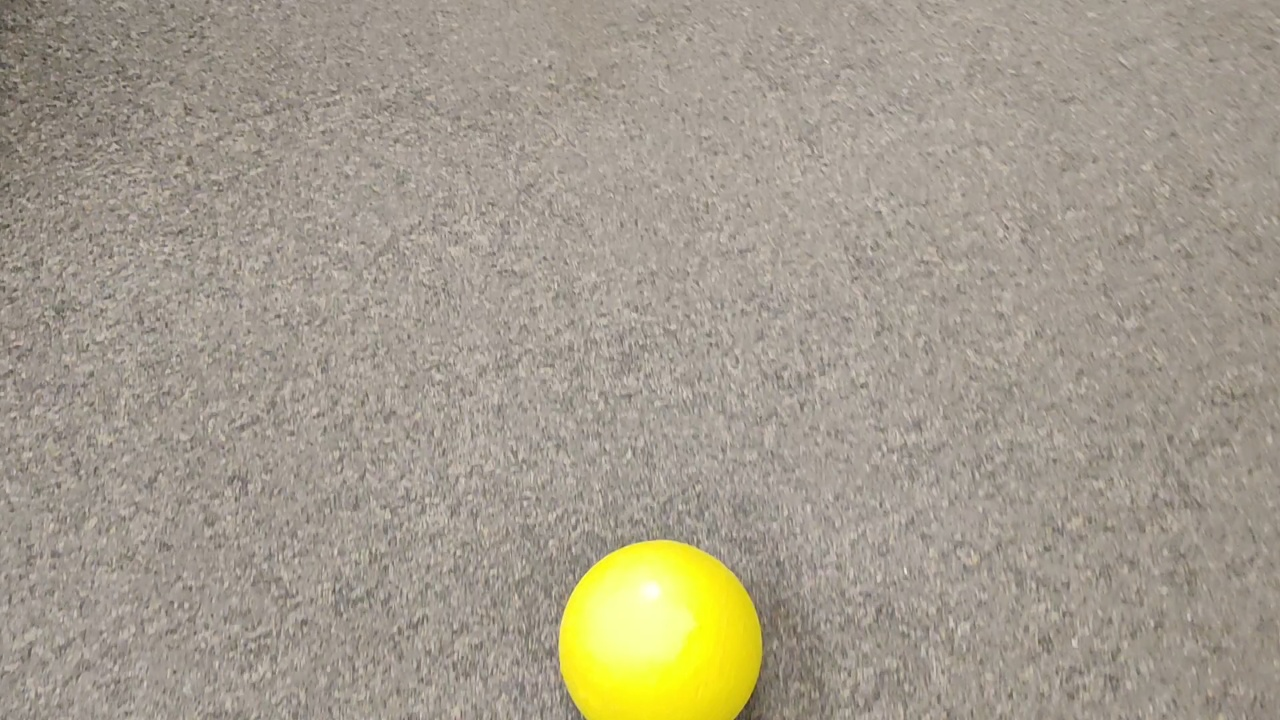Ball: (556, 537, 765, 720)
